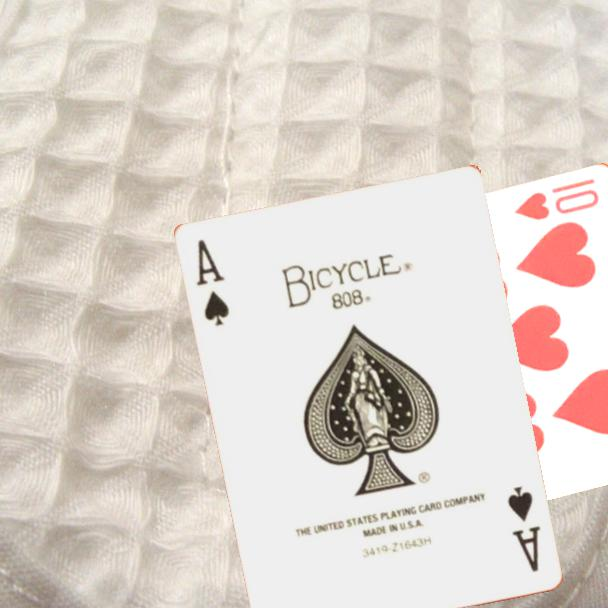h10: (511, 174, 603, 223)
s01: (192, 235, 232, 329), (503, 482, 543, 575)
